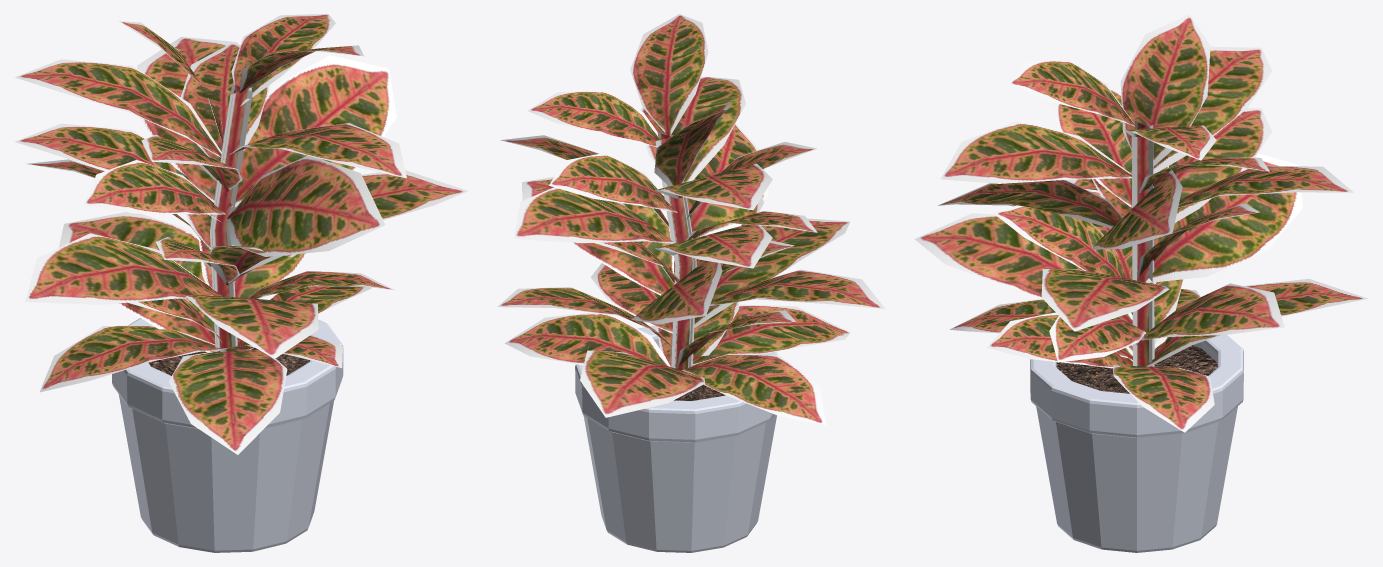
Rendered from Plant 1.FBX.
3 views of the same model, side by side, from view 1: azimuth 30°, elevation 25°; view 2: azimuth 150°, elevation 25°; view 3: azimuth 270°, elevation 25° (orthographic). The views are drawn at different scales.
Visible parts, largest first — view 1: Flowerpot_Large_Perf, Plane042, Plane046, Plane040, Plane063, Plane056, Plane050, Plane043, Plane048, Plane035, Plane060, Plane054 (+17 smaller); view 2: Flowerpot_Large_Perf, Plane062, Plane044, Plane050, Plane035, Plane053, Plane063, Plane055, Plane059, Plane040, Plane048, Plane045 (+15 smaller); view 3: Flowerpot_Large_Perf, Plane057, Plane041, Plane060, Plane048, Plane045, Plane037, Plane056, Plane053, Plane039, Plane042, Plane062 (+15 smaller).
Boxes of the visible parts, x1,y1,x2,y2 form: Flowerpot_Large_Perf: (112, 318, 343, 552); Plane042: (227, 155, 385, 256); Plane046: (228, 55, 396, 207); Plane040: (25, 233, 223, 304); Plane063: (168, 349, 287, 454); Plane056: (15, 59, 222, 158); Plane050: (39, 325, 221, 392); Plane043: (84, 160, 226, 214); Plane048: (186, 295, 318, 358); Plane035: (59, 212, 215, 352); Plane060: (228, 123, 406, 178); Plane054: (14, 123, 223, 223); Flowerpot_Large_Perf: (575, 326, 777, 552); Plane062: (630, 14, 708, 136); Plane044: (514, 187, 674, 243); Plane050: (682, 353, 825, 424); Plane035: (580, 350, 704, 417); Plane053: (504, 312, 670, 366); Plane063: (693, 304, 850, 364); Plane055: (528, 90, 659, 147); Plane059: (549, 153, 677, 212); Plane040: (710, 269, 885, 309); Plane048: (694, 218, 849, 327); Plane045: (522, 177, 674, 295); Flowerpot_Large_Perf: (1030, 335, 1243, 552); Plane057: (1120, 14, 1210, 165); Plane041: (1145, 153, 1302, 282); Plane060: (941, 121, 1131, 183); Plane048: (914, 213, 1132, 324); Plane045: (1041, 268, 1169, 331); Plane037: (1136, 283, 1284, 344); Plane056: (1153, 46, 1272, 173); Plane053: (1113, 365, 1214, 432); Plane039: (994, 205, 1126, 278); Plane042: (937, 180, 1122, 228); Plane062: (1008, 59, 1136, 127).
Size of the model in its own units: 49.91 by 56.52 by 49.2.
